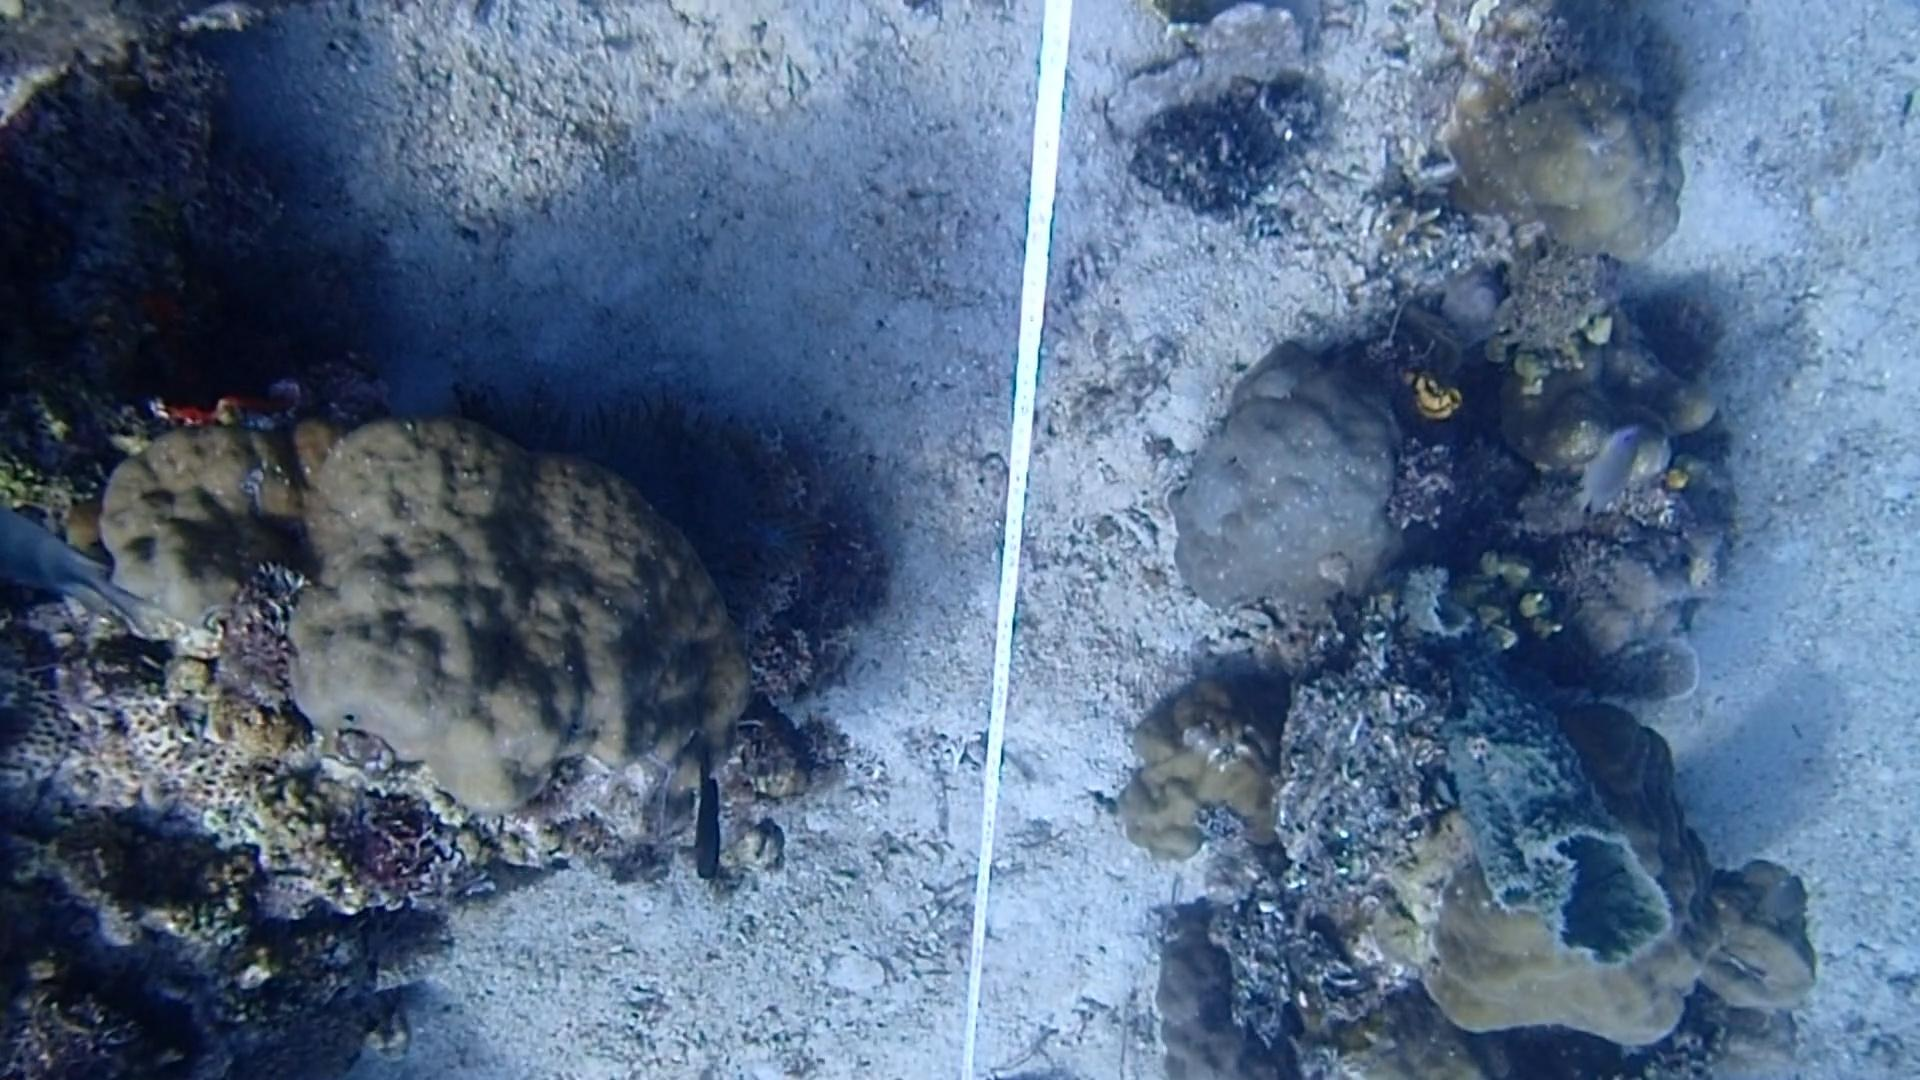Blue Nose Fish: (1565, 419, 1651, 514)
Dark Fish: (676, 744, 749, 891)
